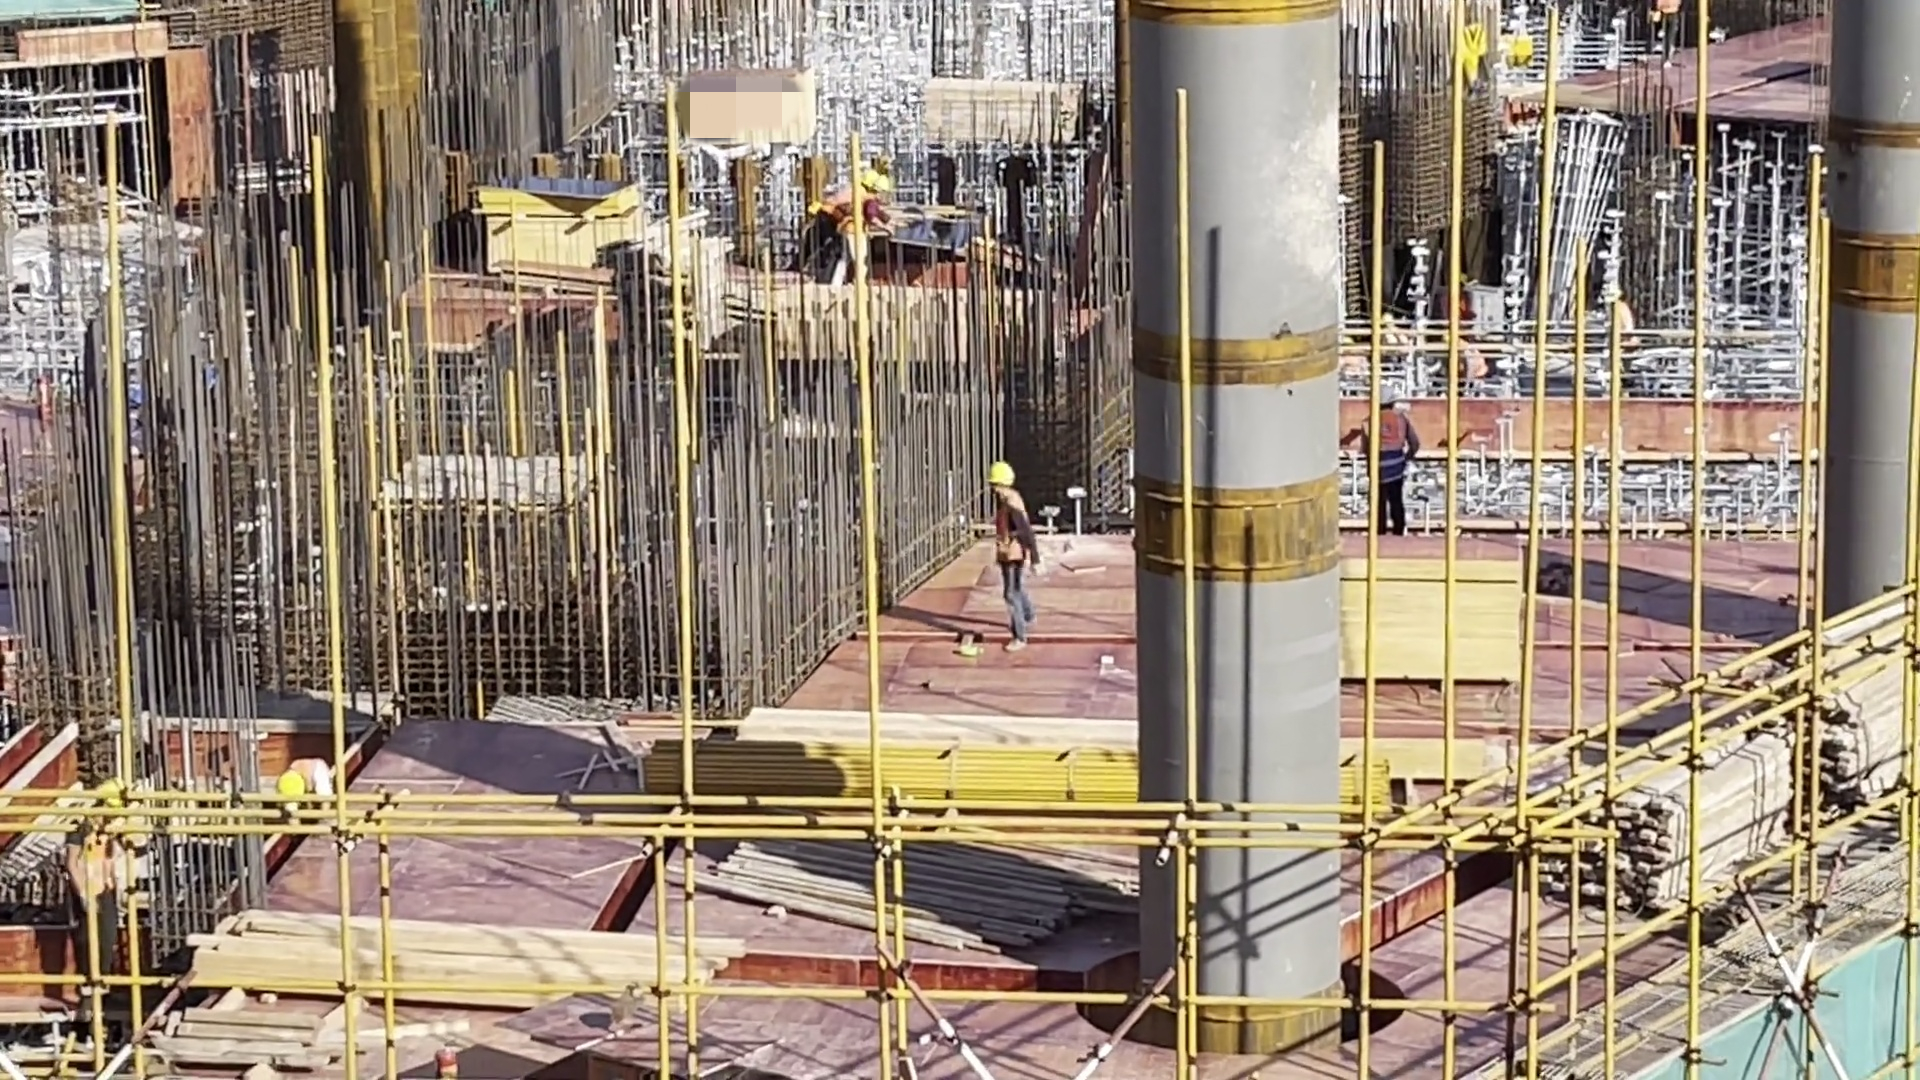helmet: (989, 453, 1027, 506), (1363, 377, 1401, 420), (275, 774, 307, 815), (862, 171, 885, 200)
person: (974, 456, 1050, 667), (1344, 383, 1429, 542), (820, 160, 886, 291), (262, 748, 342, 832), (1643, 1, 1693, 73)
vest: (984, 495, 1040, 574), (1357, 417, 1417, 483)
